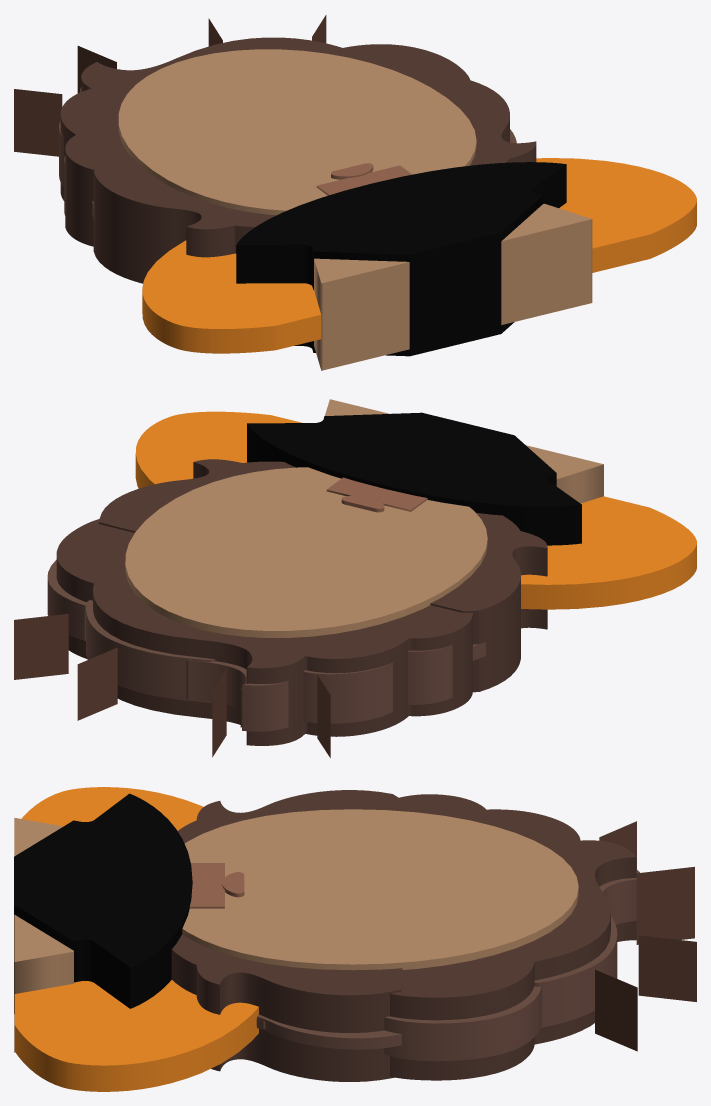
The model's file is emoji_u1f647_1f3fd.glb.
The picture shows the model from 3 angles, top to bottom: view 1: azimuth 30°, elevation 25°; view 2: azimuth 150°, elevation 25°; view 3: azimuth 270°, elevation 25°; orthographic projection. The views are drawn at different scales.
Parts seen in each view (by area): view 1: emoji_u1f647_1f3fd; view 2: emoji_u1f647_1f3fd; view 3: emoji_u1f647_1f3fd.
Part boxes in pixels (bbox=[...]): emoji_u1f647_1f3fd: bbox=[14, 15, 696, 370]; emoji_u1f647_1f3fd: bbox=[14, 399, 696, 757]; emoji_u1f647_1f3fd: bbox=[14, 787, 696, 1091].
Bounding box in the file's own units: 0.0317 × 0.0058 × 0.0328.
